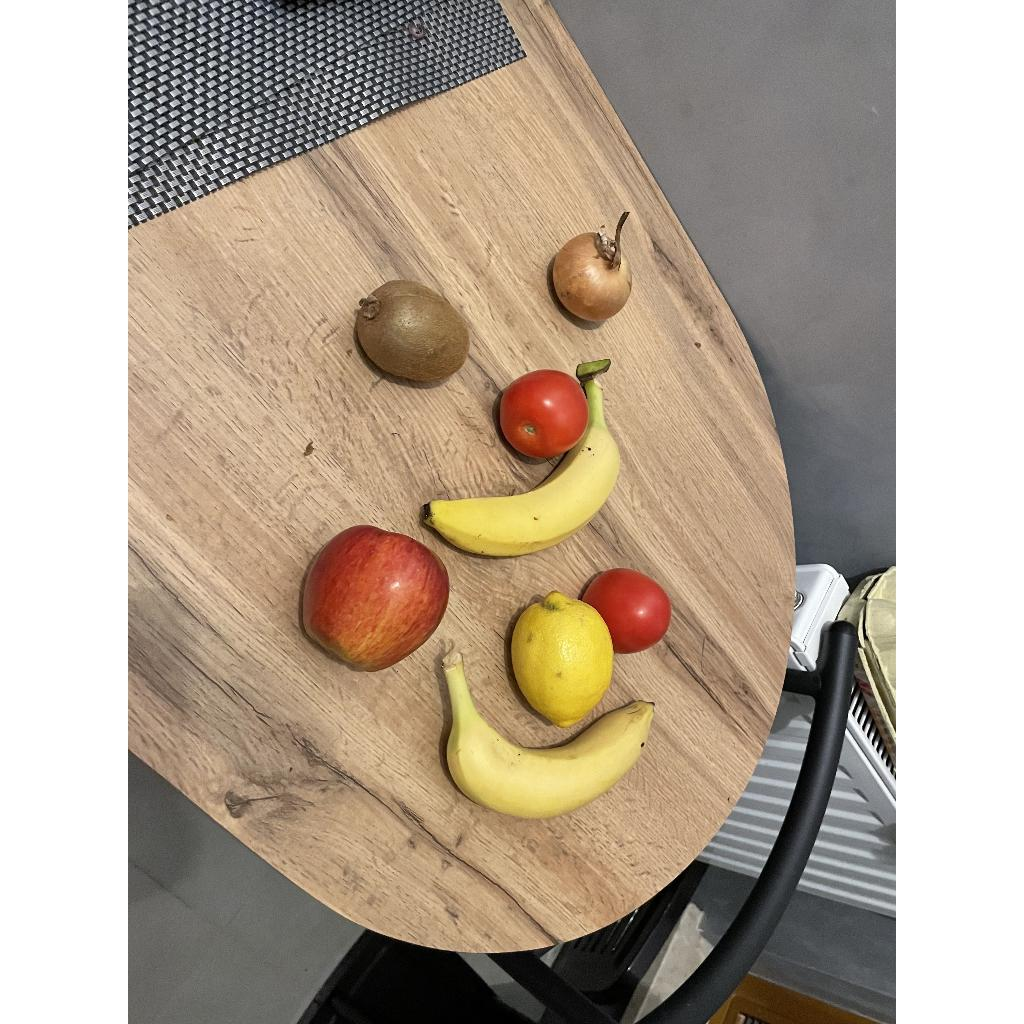apple: (302, 526, 450, 670)
banana: (424, 378, 620, 556), (444, 652, 654, 818)
kiwi: (356, 280, 470, 382)
lemon: (512, 590, 614, 728), (552, 212, 632, 322)
tomato: (500, 370, 588, 458), (582, 568, 672, 654)
